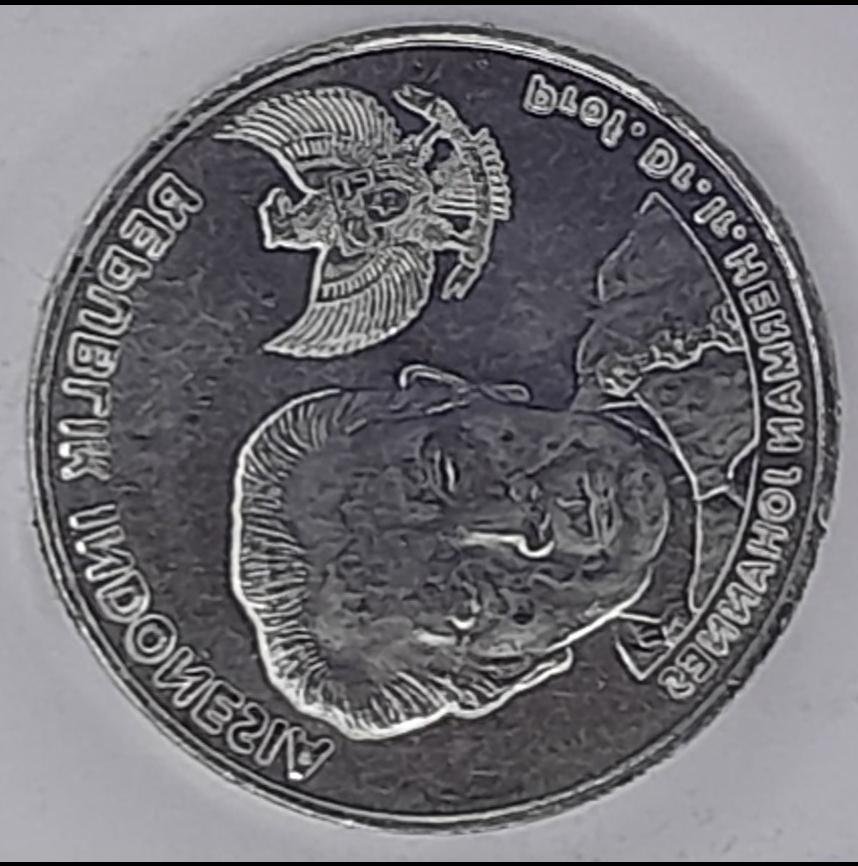coin_100_e2016: (20, 18, 846, 838)
